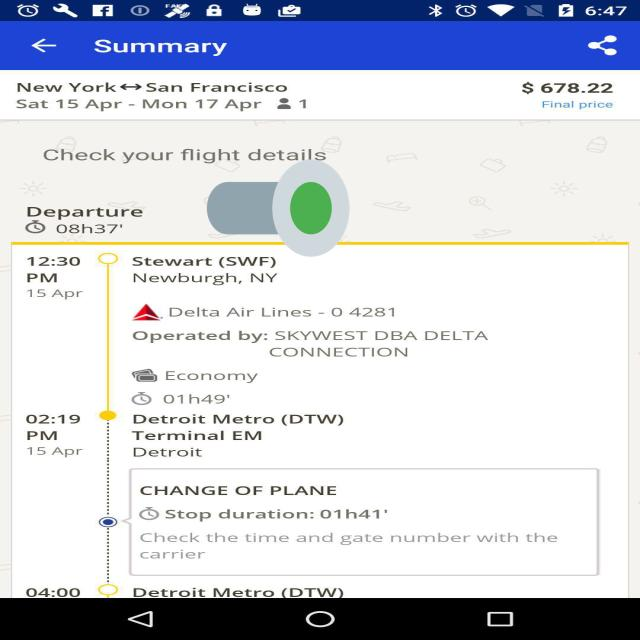social proof: (206, 118, 350, 298)
